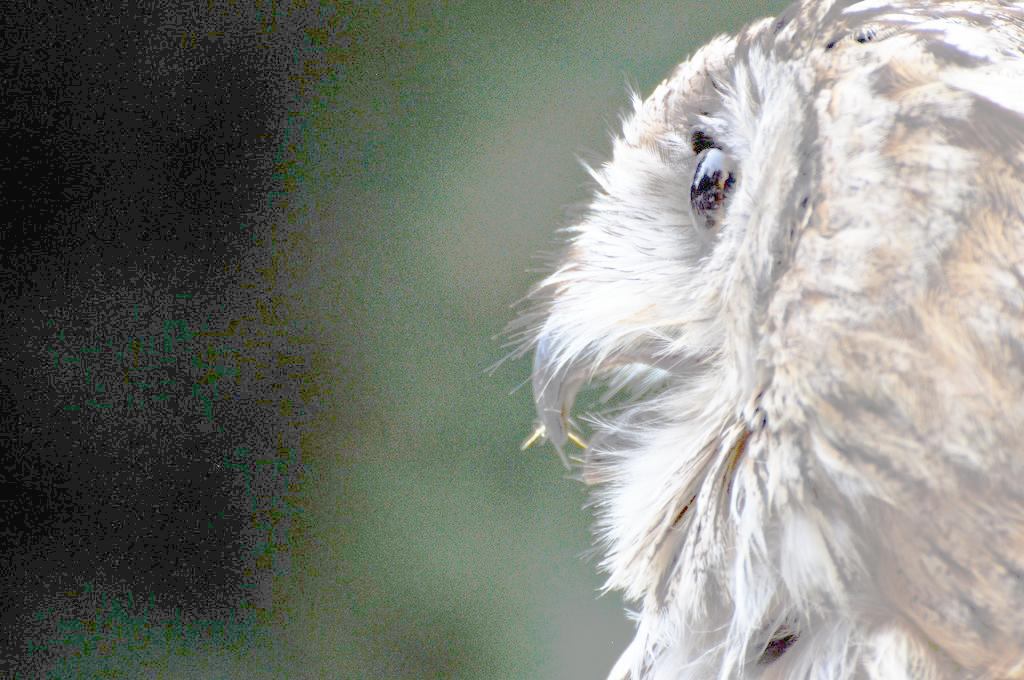Owl: (494, 0, 1024, 679)
